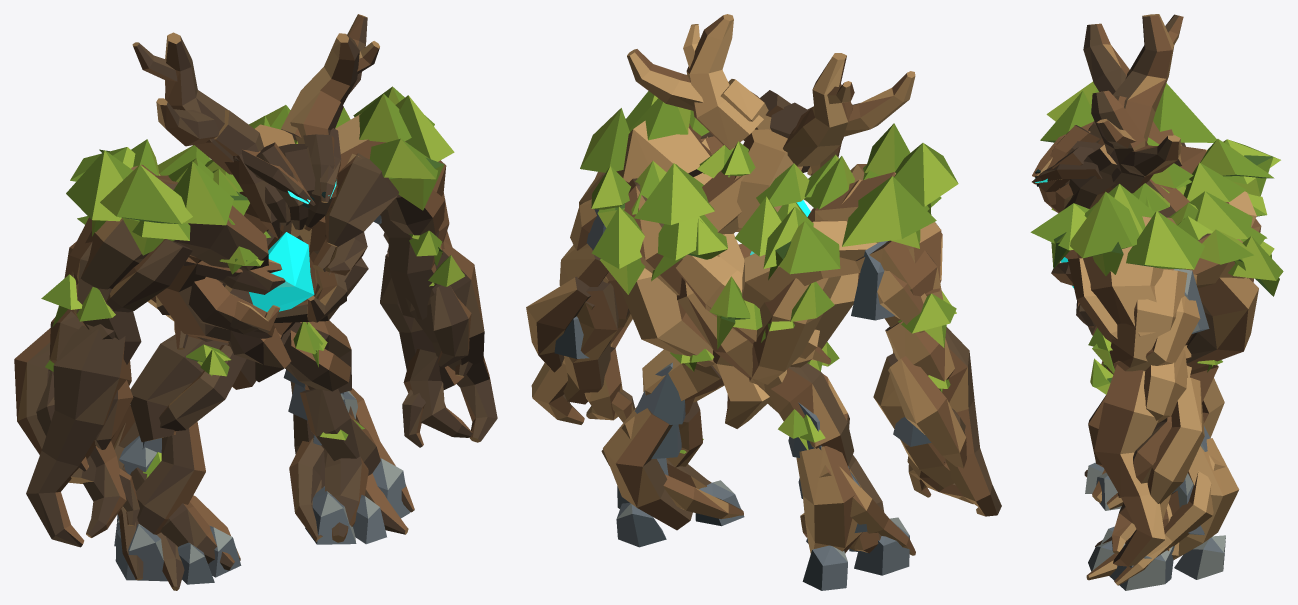
File: tide-root-colossus-complete-pass2.glb
The picture shows the model from 3 angles, left to right: view 1: azimuth 30°, elevation 25°; view 2: azimuth 150°, elevation 25°; view 3: azimuth 270°, elevation 25°; orthographic projection. The views are drawn at different scales.
Visible parts, largest first — view 1: Forearm main to outer claw -1, Forearm main to outer claw 1, Calf crossing root -1, Thigh load root -1, Right clavicle cascade, Calf crossing root 1, Arm descending trunk 1, Outer shoulder growth -1 angled growth 1, Crown left main, Upper arm crossing bark -1, Outer shoulder root -1, Left clavicle cascade (+67 smaller); view 2: Calf rear load 1, Rear diagonal trunk, Calf rear load -1, Crown right main, Forearm main to outer claw -1, Flank bowed trunk 1, Forearm root split -1, Flank bowed trunk -1, Forearm inner braid 1, Crown left main, Thigh load root -1, Outer shoulder growth -1 angled growth 0 (+57 smaller); view 3: Forearm main to outer claw 1, Flank bowed trunk 1, Crown left main, Forearm root split 1, Arm descending trunk 1, Outer shoulder root 1, Outer shoulder growth 1 angled growth 3, Outer shoulder growth 1 angled growth 2, Calf rear load 1, Lower leg lateral root 1, Crown right main, Elbow outer hook 1 (+45 smaller).
Part boxes in pixels (x1,y1,x2,y2): Forearm main to outer claw -1: [26, 325, 131, 547]; Forearm main to outer claw 1: [405, 241, 497, 442]; Calf crossing root -1: [135, 421, 205, 534]; Thigh load root -1: [130, 334, 229, 442]; Right clavicle cascade: [325, 153, 398, 246]; Calf crossing root 1: [300, 388, 380, 475]; Arm descending trunk 1: [379, 192, 449, 319]; Outer shoulder growth -1 angled growth 1: [100, 164, 192, 224]; Crown left main: [165, 32, 233, 174]; Upper arm crossing bark -1: [106, 239, 192, 312]; Outer shoulder root -1: [73, 175, 177, 289]; Left clavicle cascade: [177, 205, 268, 270]; Calf rear load 1: [603, 407, 692, 530]; Rear diagonal trunk: [677, 169, 786, 391]; Calf rear load -1: [796, 446, 862, 553]; Crown right main: [686, 14, 763, 150]; Forearm main to outer claw -1: [942, 327, 1001, 516]; Flank bowed trunk 1: [618, 268, 714, 367]; Forearm root split -1: [888, 356, 966, 468]; Flank bowed trunk -1: [749, 276, 840, 384]; Forearm inner braid 1: [563, 282, 618, 404]; Crown left main: [783, 53, 853, 166]; Thigh load root -1: [759, 363, 853, 466]; Outer shoulder growth -1 angled growth 0: [842, 176, 936, 246]; Forearm main to outer claw 1: [1094, 364, 1165, 566]; Flank bowed trunk 1: [1186, 277, 1258, 370]; Crown left main: [1104, 14, 1174, 144]; Forearm root split 1: [1147, 377, 1204, 503]; Arm descending trunk 1: [1107, 269, 1197, 374]; Outer shoulder root 1: [1077, 216, 1176, 335]; Outer shoulder growth 1 angled growth 3: [1126, 210, 1204, 269]; Outer shoulder growth 1 angled growth 2: [1070, 191, 1139, 258]; Calf rear load 1: [1173, 438, 1239, 559]; Lower leg lateral root 1: [1114, 455, 1225, 585]; Crown right main: [1091, 90, 1153, 193]; Elbow outer hook 1: [1144, 349, 1187, 423].
Bounding box in the file's own units: 5.44 × 5.79 × 2.78.
